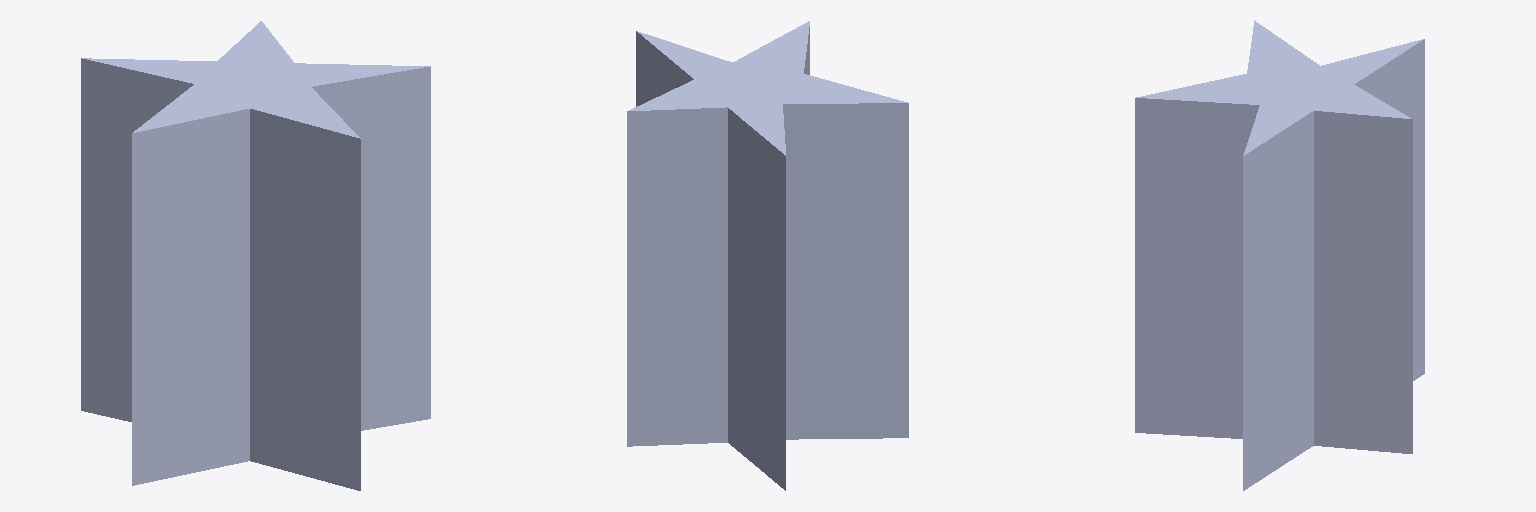
The robot description file, URDF, robot "estrella_v2":
<?xml version="1.0"?>
<robot
  name="estrella_v2">
  <link
    name="estrella_link">
    <inertial>
      <origin
        xyz="-0.039439 0.05 0.11106"
        rpy="0 0 0" />
      <mass
        value="0.19787" />
      <inertia
        ixx="15"
        ixy="-8.807E-21"
        ixz="-1.0857E-19"
        iyy="15"
        iyz="9.5218E-21"
        izz="15" />
    </inertial>
    <visual>
      <origin
        xyz="0 0 0"
        rpy="0 0 0" />
      <geometry>
        <mesh
          filename="package://brazo/meshes/estrella_link.STL" />
      </geometry>
      <material
        name="">
        <color
          rgba="0.79216 0.81961 0.93333 1" />
      </material>
    </visual>
    <collision>
      <origin
        xyz="0 0 0"
        rpy="0 0 0" />
      <geometry>
        <mesh
          filename="package://brazo/meshes/estrella_link.STL" />
      </geometry>
    </collision>
  </link>

  <gazebo reference= "estrella_link">
    <material>Gazebo/Blue</material>
    <mu1>100.0</mu1> 
    <mu2>100.0</mu2>
    <selfCollide>false</selfCollide>
  </gazebo>
</robot>

--- Facts derived from the render (not from the file) ---
Views: 3 orthographic renders of the robot side by side, from view 1: azimuth 30°, elevation 25°; view 2: azimuth 150°, elevation 25°; view 3: azimuth 270°, elevation 25°.
Model estrella_v2 with 1 links and 0 joints (none), rooted at estrella_link, posed every joint at zero.
Links seen in each view (by area): view 1: estrella_link; view 2: estrella_link; view 3: estrella_link.
Link boxes in pixels (x1,y1,x2,y2): estrella_link: (81,21,430,490); estrella_link: (627,21,908,490); estrella_link: (1135,20,1424,490).
Size in the robot's own frame: 0.087 by 0.0784 by 0.1 metres.
Meshes: 1 distinct files referenced, 1 mesh visuals loaded (1 binary STL).